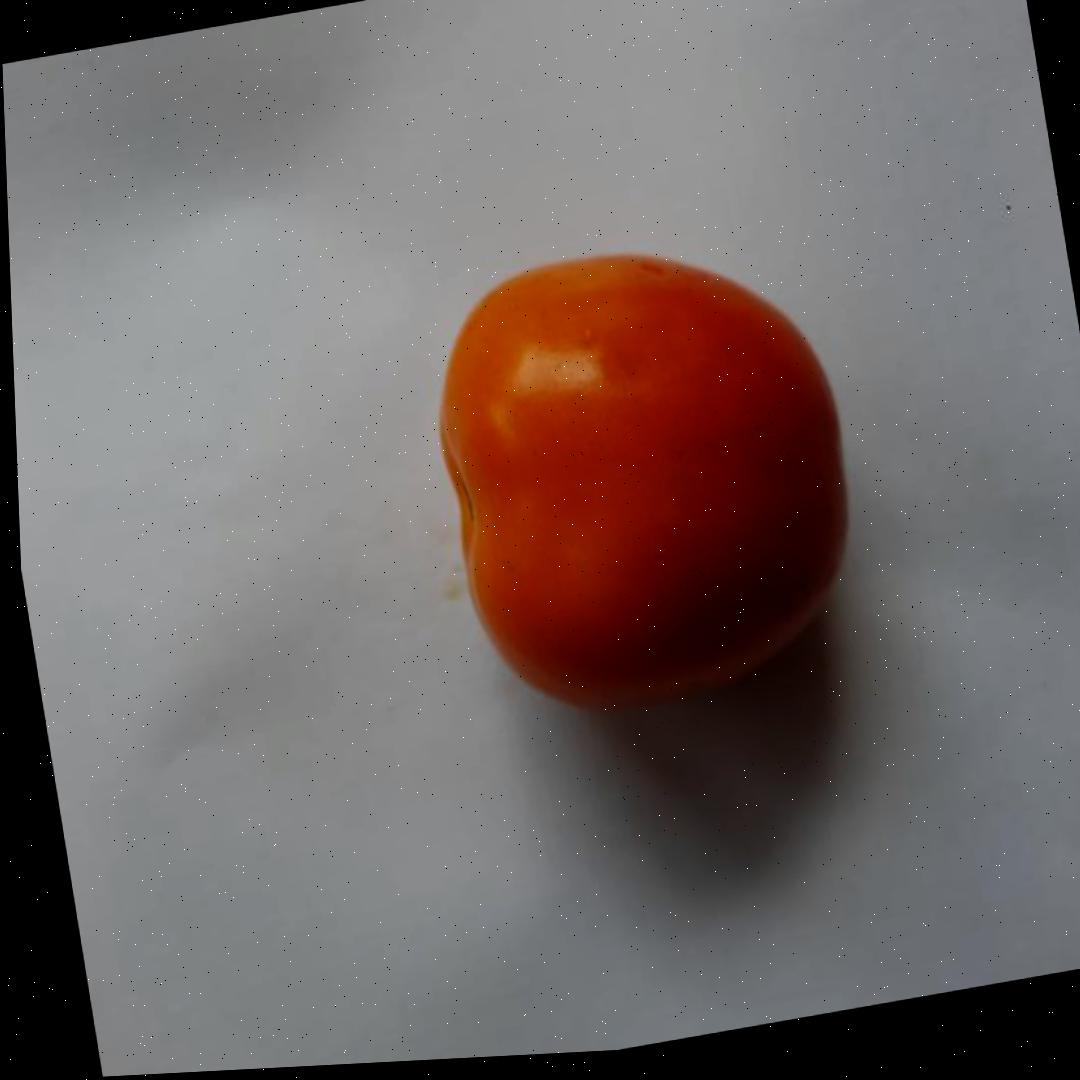setengah_matang: (408, 210, 883, 738)
